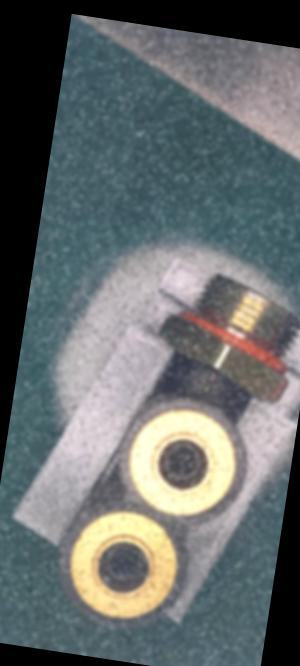craze: (202, 366, 218, 399)
